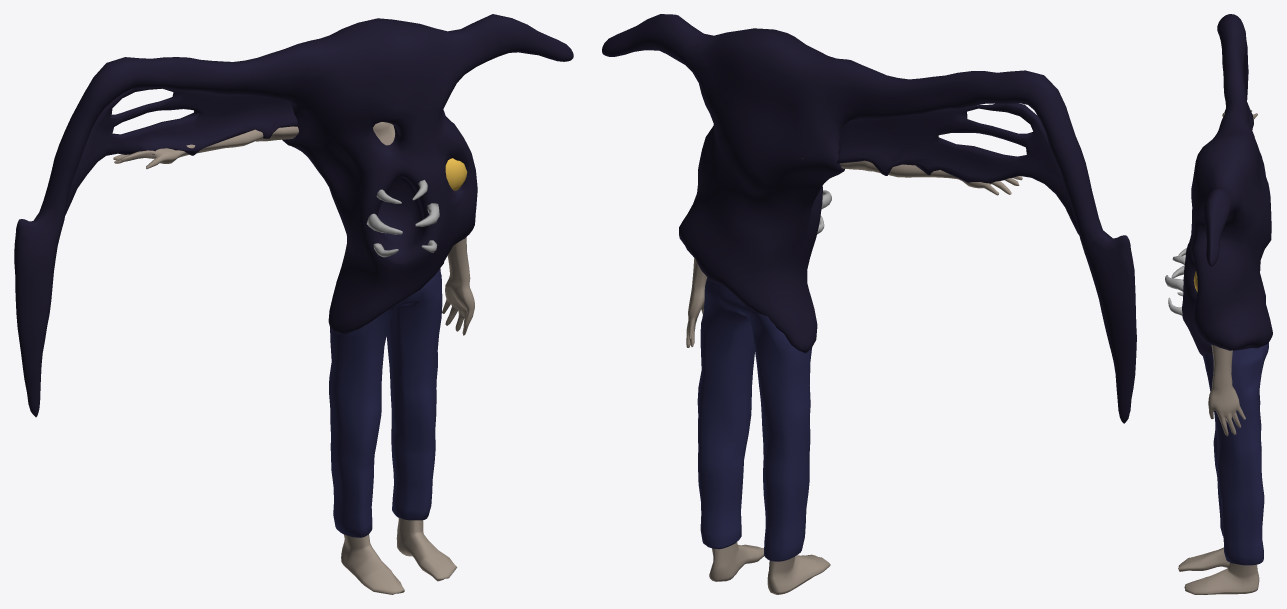
File: Creature Model.fbx
The picture shows the model from 3 angles, left to right: view 1: azimuth 30°, elevation 25°; view 2: azimuth 150°, elevation 25°; view 3: azimuth 270°, elevation 25°; orthographic projection. The views are drawn at different scales.
Visible parts, largest first — view 1: polySurface34; view 2: polySurface34; view 3: polySurface34.
Part boxes in pixels (<box>): polySurface34: <box>14,14,573,594</box>; polySurface34: <box>602,14,1136,594</box>; polySurface34: <box>1165,14,1272,594</box>.
Size of the model in its own units: 8.17 by 8.18 by 1.75.
